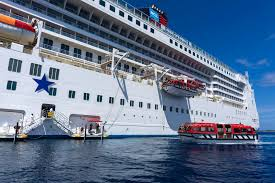boat: (1, 1, 261, 138), (177, 121, 259, 147)
